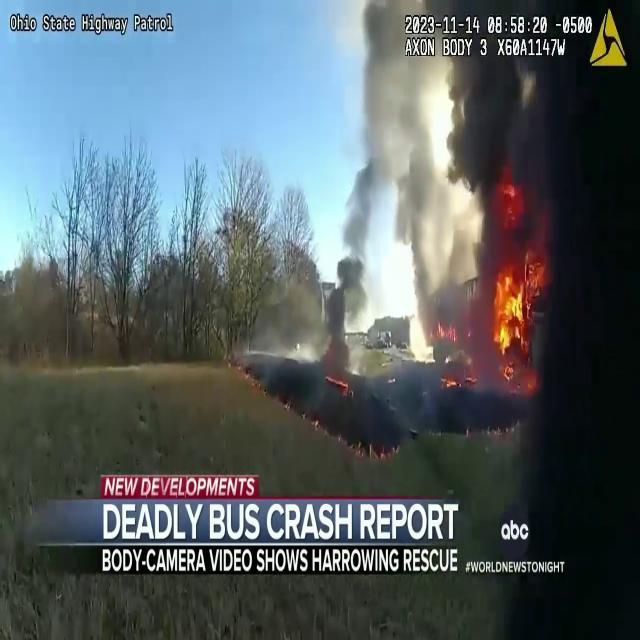Fire: (489, 209, 551, 371)
Smoke: (343, 42, 532, 336)
